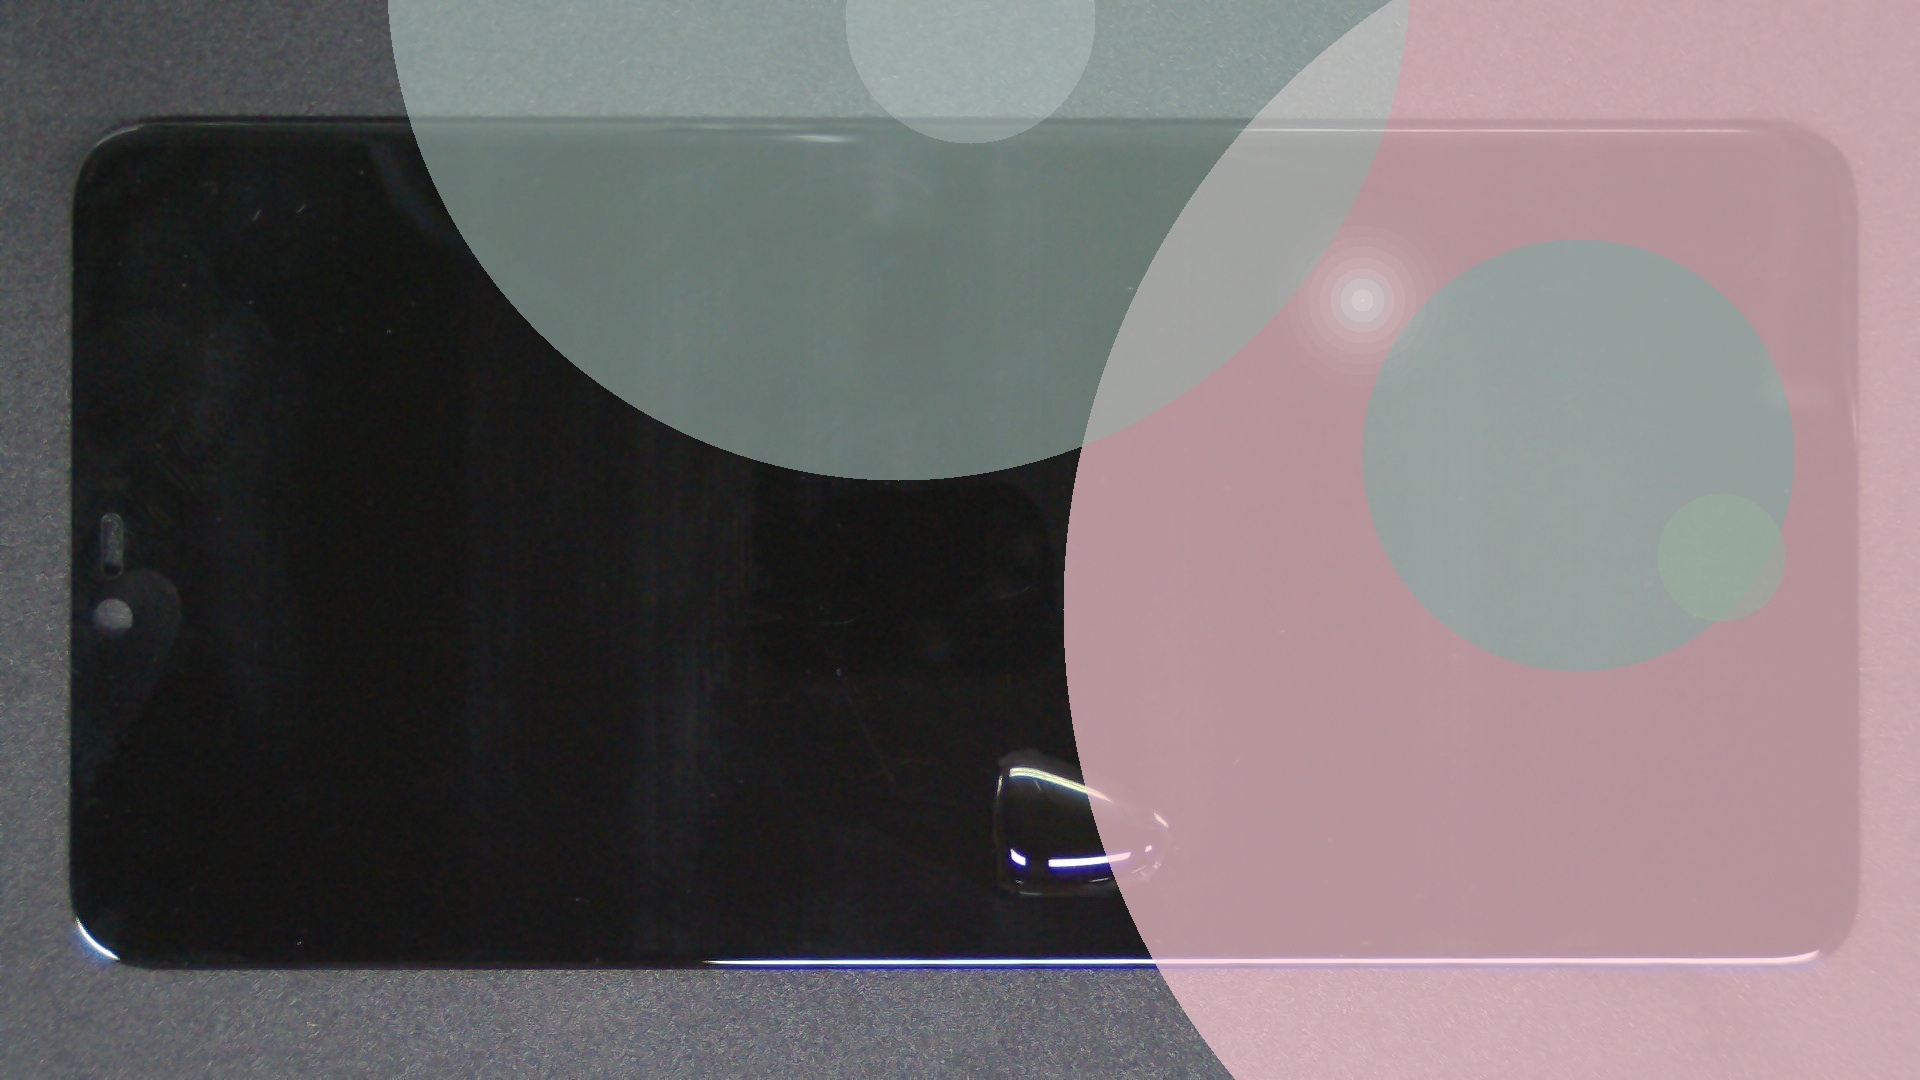oil: (517, 373, 1549, 1080)
